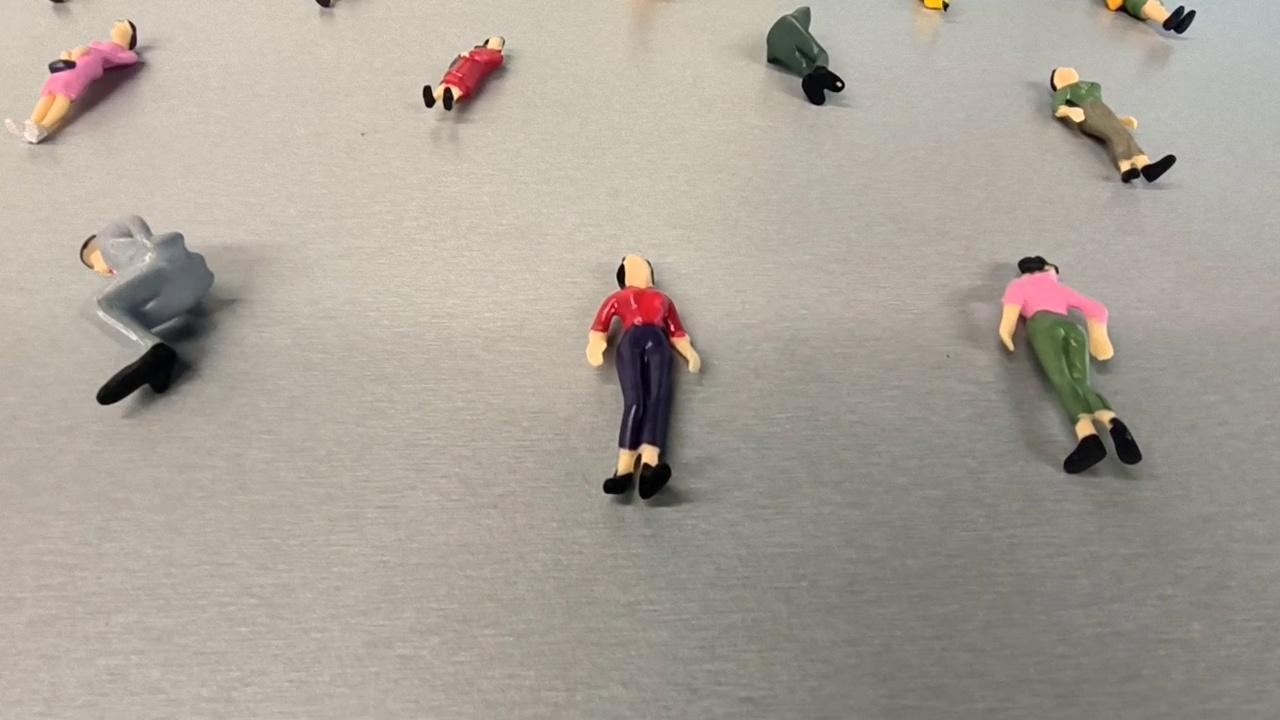human: (1001, 253, 1143, 473), (589, 254, 703, 500), (79, 213, 216, 410), (3, 19, 147, 145), (1053, 64, 1179, 187), (422, 34, 510, 111), (1102, 0, 1200, 36), (914, 0, 956, 14), (309, 0, 345, 11), (42, 0, 73, 10)
